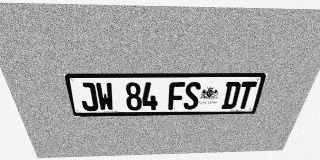4: (142, 82, 158, 110)
8: (125, 82, 142, 110)
D: (221, 82, 242, 109)
F: (168, 82, 185, 110)
J: (77, 82, 99, 111)
S: (183, 82, 201, 110)
T: (235, 81, 257, 109)
W: (95, 82, 115, 111)
